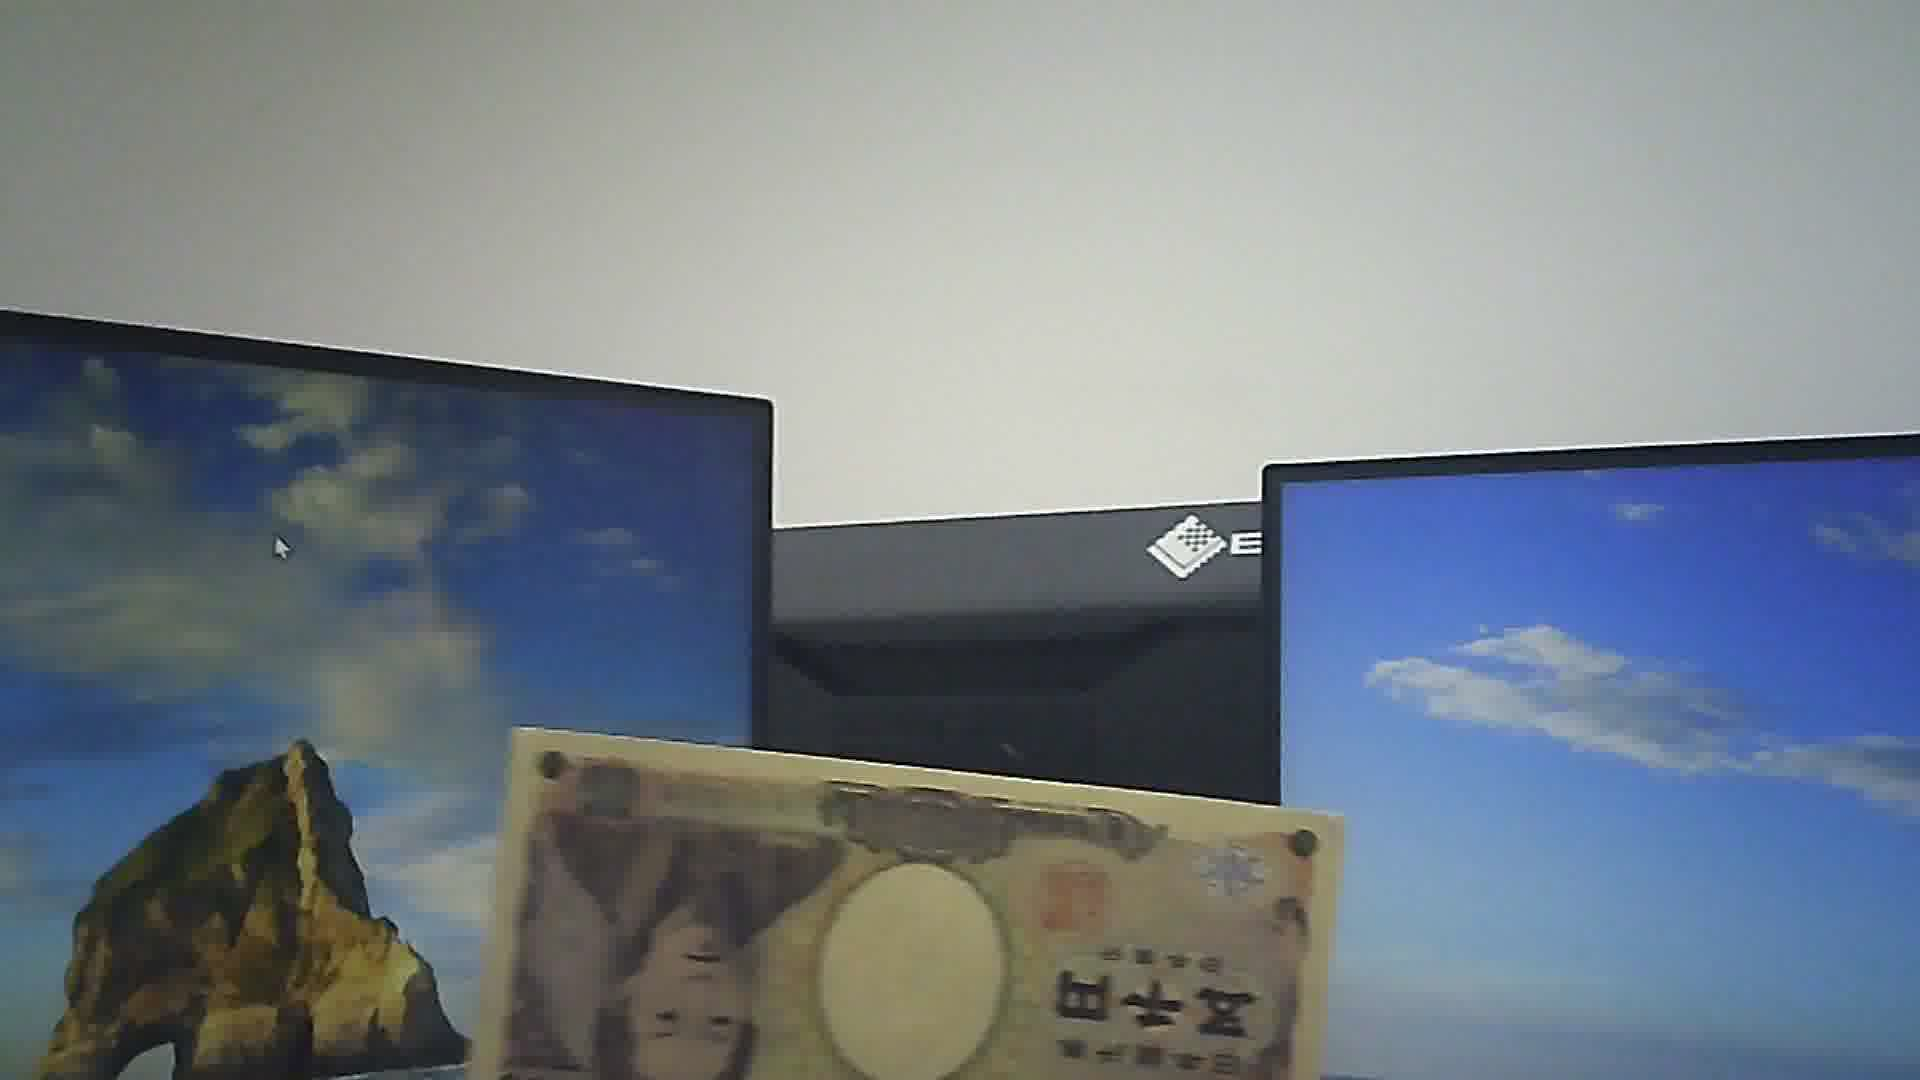5,000 Yen: (460, 716, 1346, 1065)
